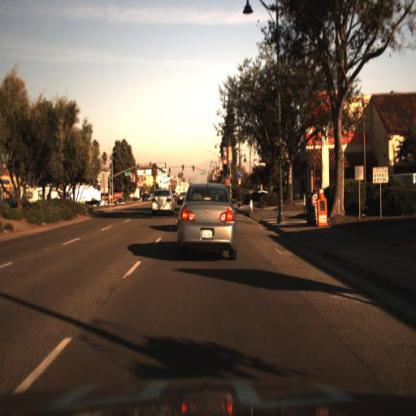car: (175, 180, 241, 265), (148, 184, 176, 221), (82, 197, 103, 209)
